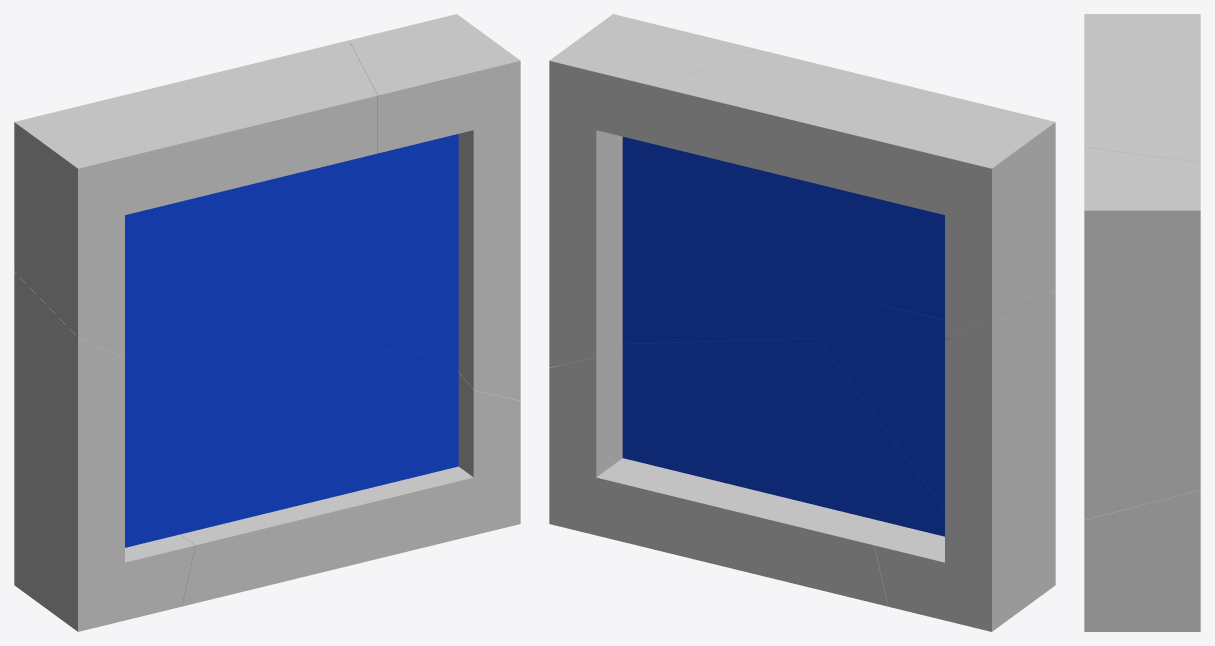
Rendered from Window 4x4x1 Fractured.fbx.
3 renders of one model, left to right at view 1: azimuth 30°, elevation 25°; view 2: azimuth 150°, elevation 25°; view 3: azimuth 270°, elevation 25°, orthographic. The views are drawn at different scales.
Parts seen in each view (by area): view 1: Window Concrete 4x4x1_cell.001, Glass_cell, Glass_cell.001, Window Concrete 4x4x1_cell.002, Window Concrete 4x4x1_cell.003, Window Concrete 4x4x1_cell, Glass_cell.002, Glass_cell.003; view 2: Window Concrete 4x4x1_cell.001, Glass_cell, Glass_cell.001, Window Concrete 4x4x1_cell.002, Window Concrete 4x4x1_cell, Window Concrete 4x4x1_cell.003, Glass_cell.002, Glass_cell.003; view 3: Window Concrete 4x4x1_cell.003, Window Concrete 4x4x1_cell.001, Window Concrete 4x4x1_cell.
Boxes of the visible parts, x1,y1,x2,y2 form: Window Concrete 4x4x1_cell.001: [14, 40, 377, 358]; Glass_cell: [195, 134, 458, 353]; Glass_cell.001: [125, 347, 458, 547]; Window Concrete 4x4x1_cell.002: [14, 272, 195, 631]; Window Concrete 4x4x1_cell.003: [349, 14, 520, 400]; Window Concrete 4x4x1_cell: [181, 372, 520, 606]; Glass_cell.002: [125, 311, 269, 542]; Glass_cell.003: [125, 198, 195, 328]; Window Concrete 4x4x1_cell.001: [657, 49, 1055, 339]; Glass_cell: [622, 136, 883, 343]; Glass_cell.001: [622, 338, 944, 536]; Window Concrete 4x4x1_cell.002: [874, 291, 1055, 631]; Window Concrete 4x4x1_cell: [549, 352, 900, 606]; Window Concrete 4x4x1_cell.003: [549, 14, 755, 367]; Glass_cell.002: [817, 305, 952, 508]; Glass_cell.003: [884, 200, 944, 319]; Window Concrete 4x4x1_cell.003: [1084, 147, 1200, 519]; Window Concrete 4x4x1_cell.001: [1084, 14, 1200, 162]; Window Concrete 4x4x1_cell: [1084, 490, 1200, 631].
Bounding box in the file's own units: 4 × 4 × 1.
